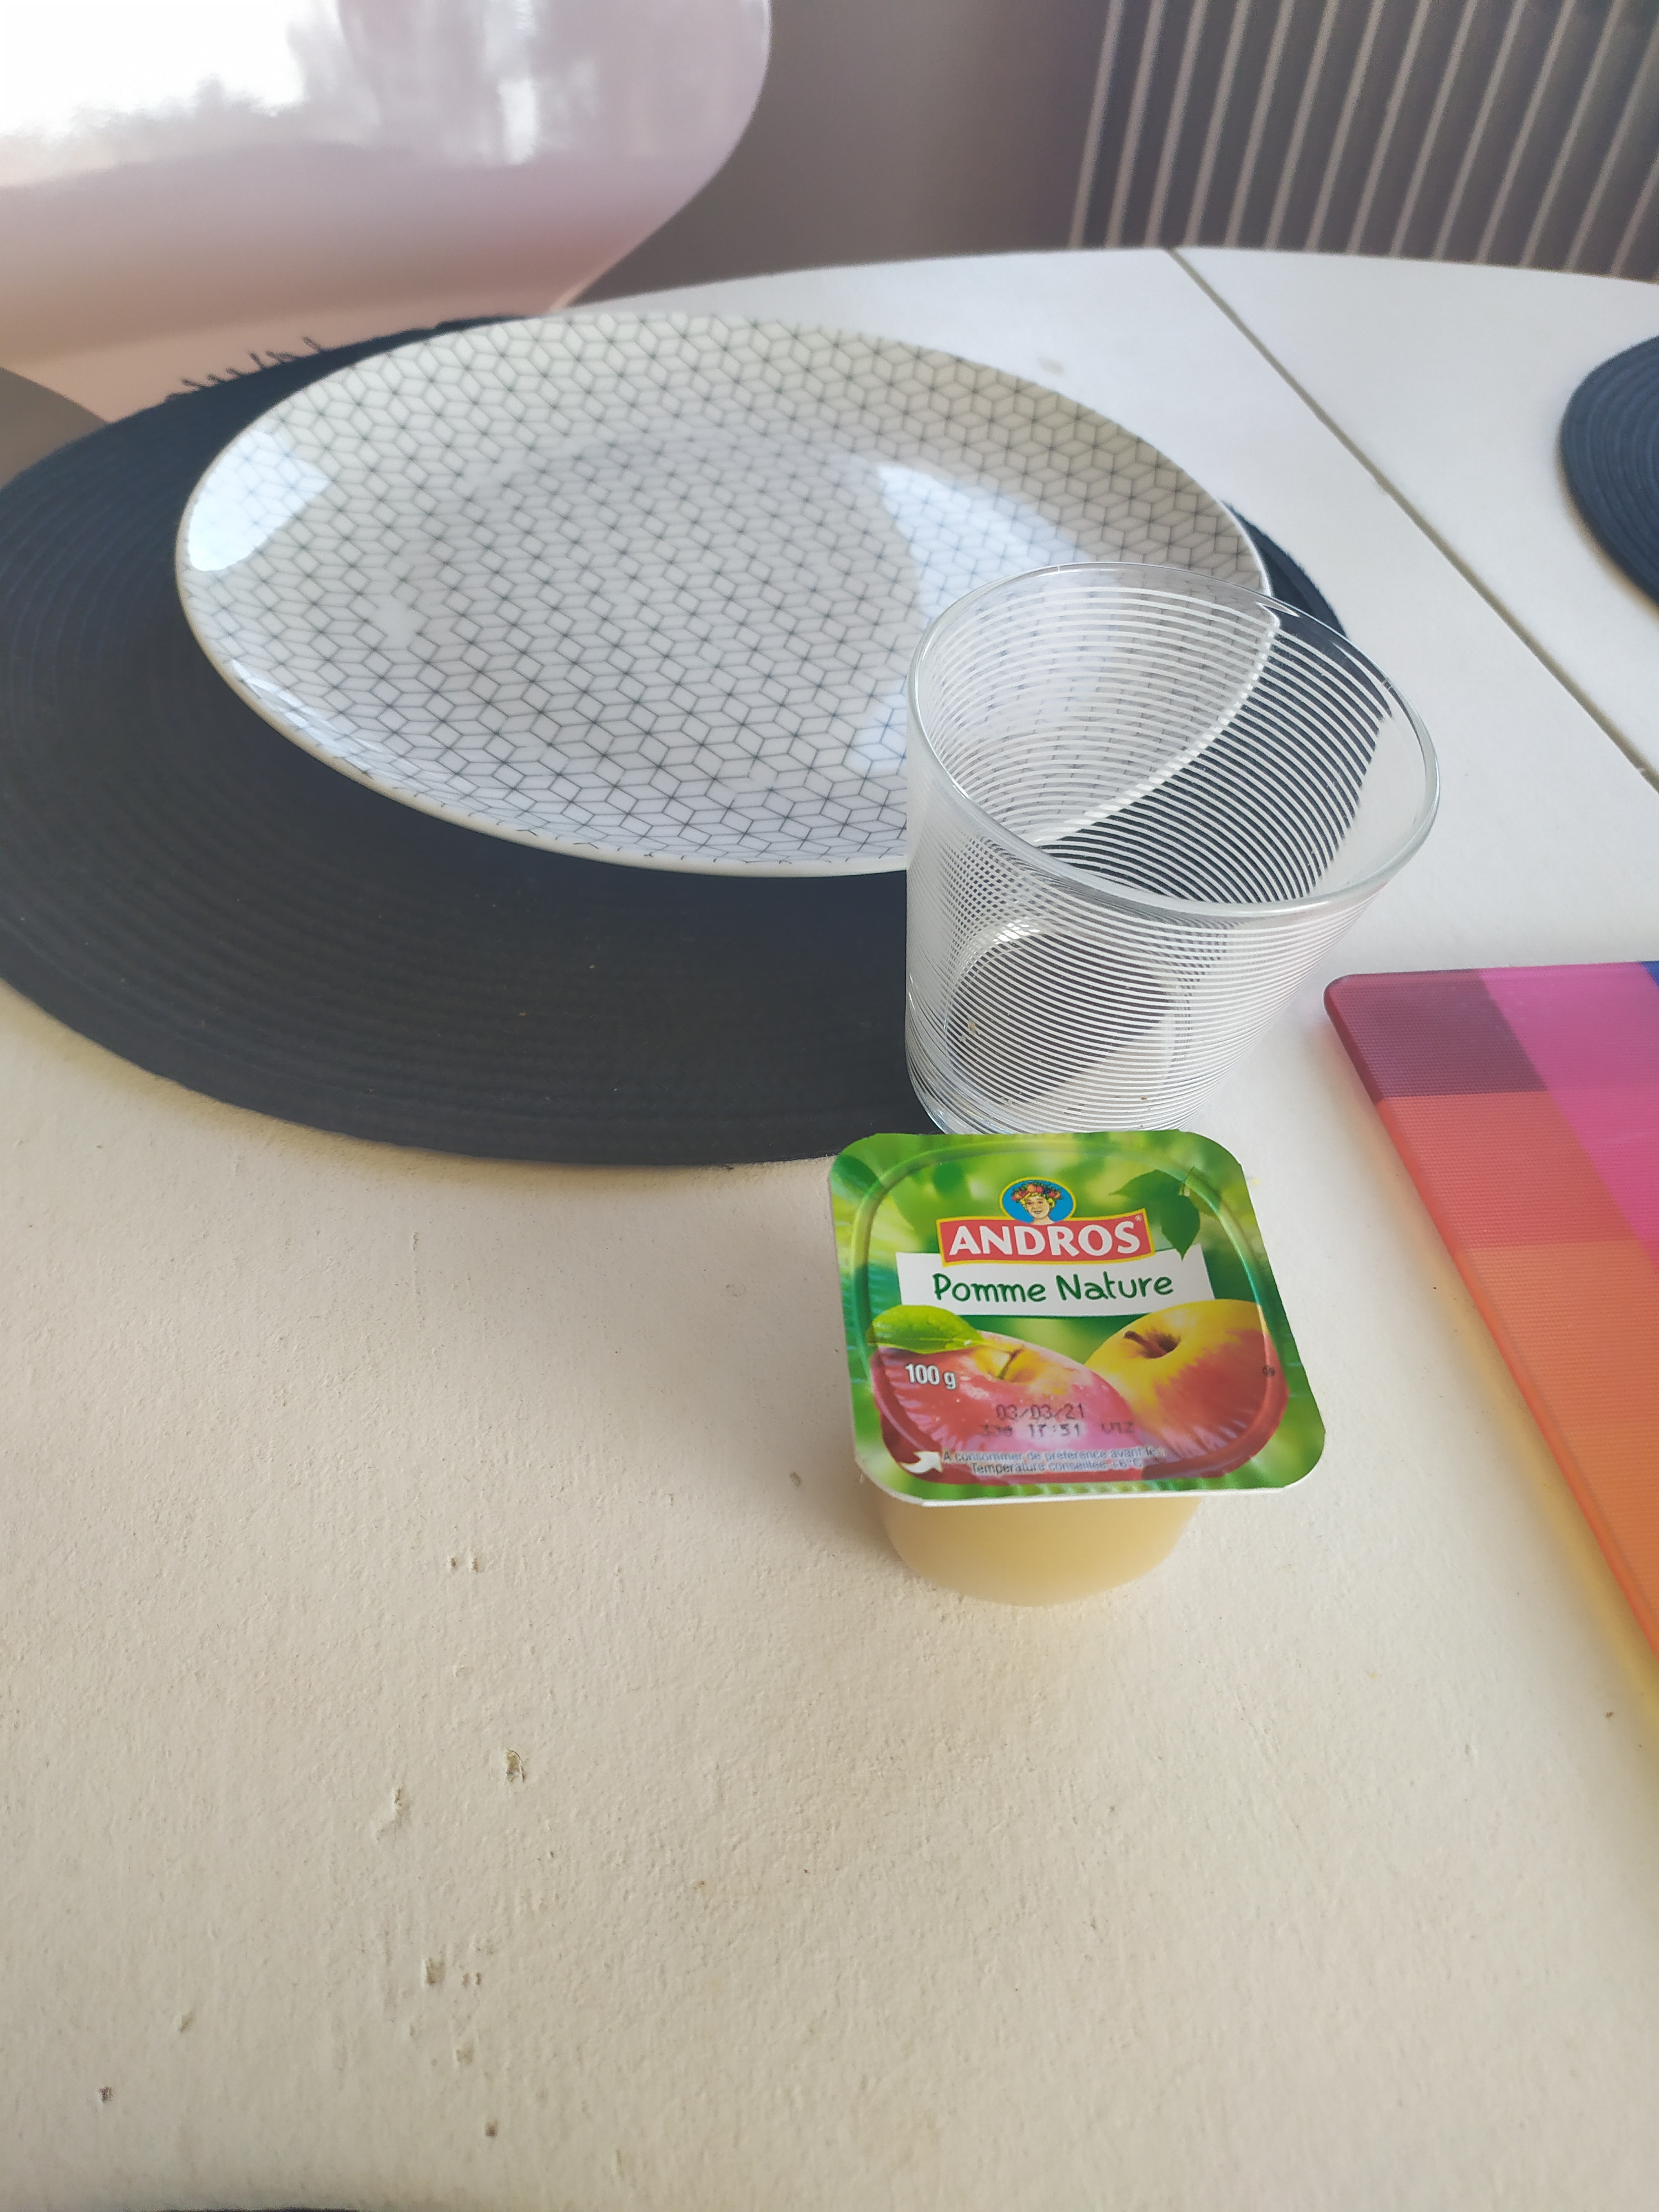compote: (836, 1129, 1333, 1608)
